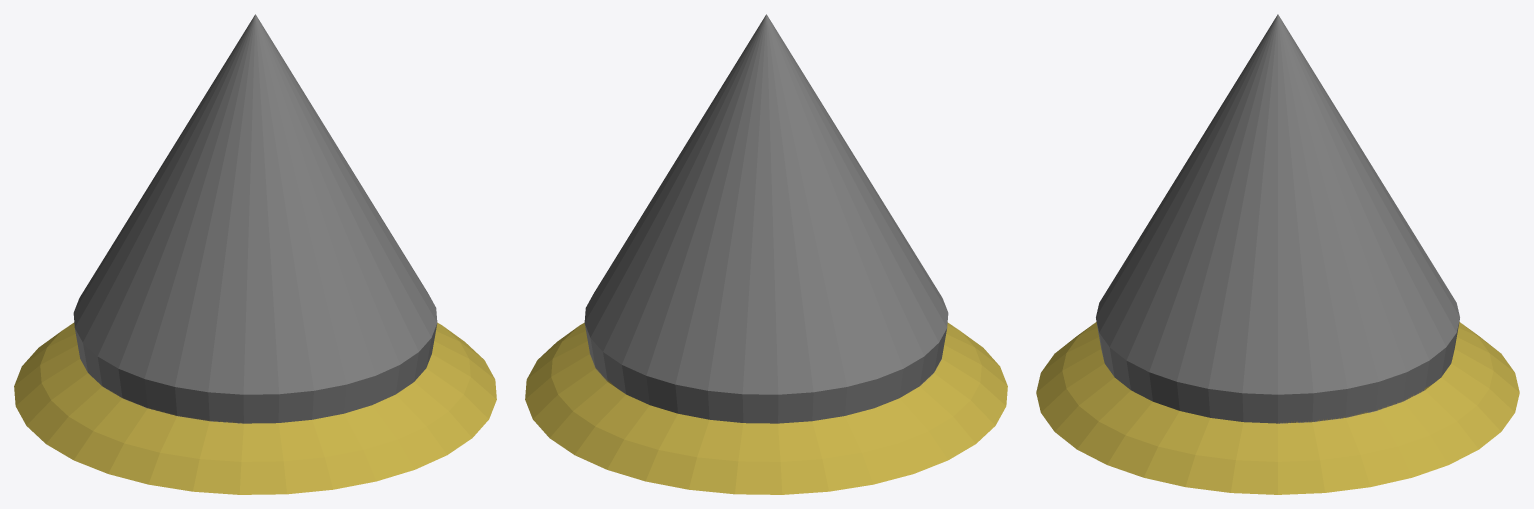
The model's file is Spike.glb.
3 renders of one model, left to right at view 1: azimuth 30°, elevation 25°; view 2: azimuth 150°, elevation 25°; view 3: azimuth 270°, elevation 25°, orthographic.
Parts seen in each view (by area): view 1: Cone; view 2: Cone; view 3: Cone.
Part boxes in pixels (x1,y1,x2,y2): Cone: [14, 14, 496, 494]; Cone: [525, 14, 1007, 494]; Cone: [1036, 14, 1519, 494].
Size of the model in its own units: 0.9956 by 0.8604 by 0.9956.
Materials: 1 (1 with a texture image).
